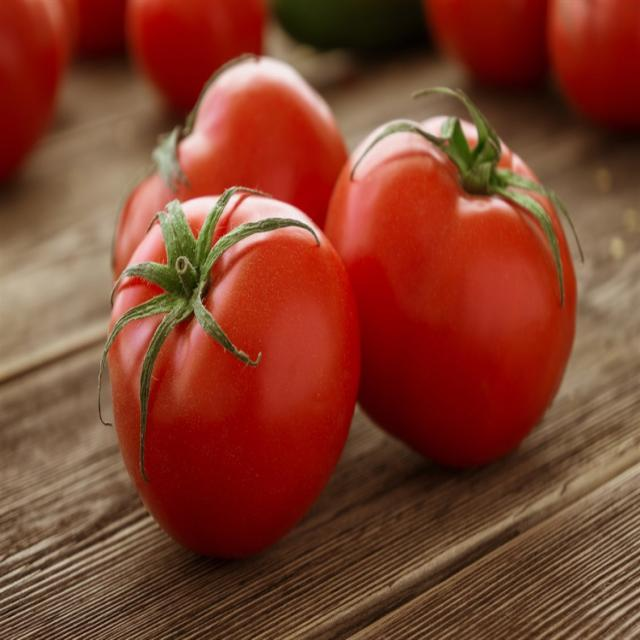kirmizi: (88, 78, 580, 548)
